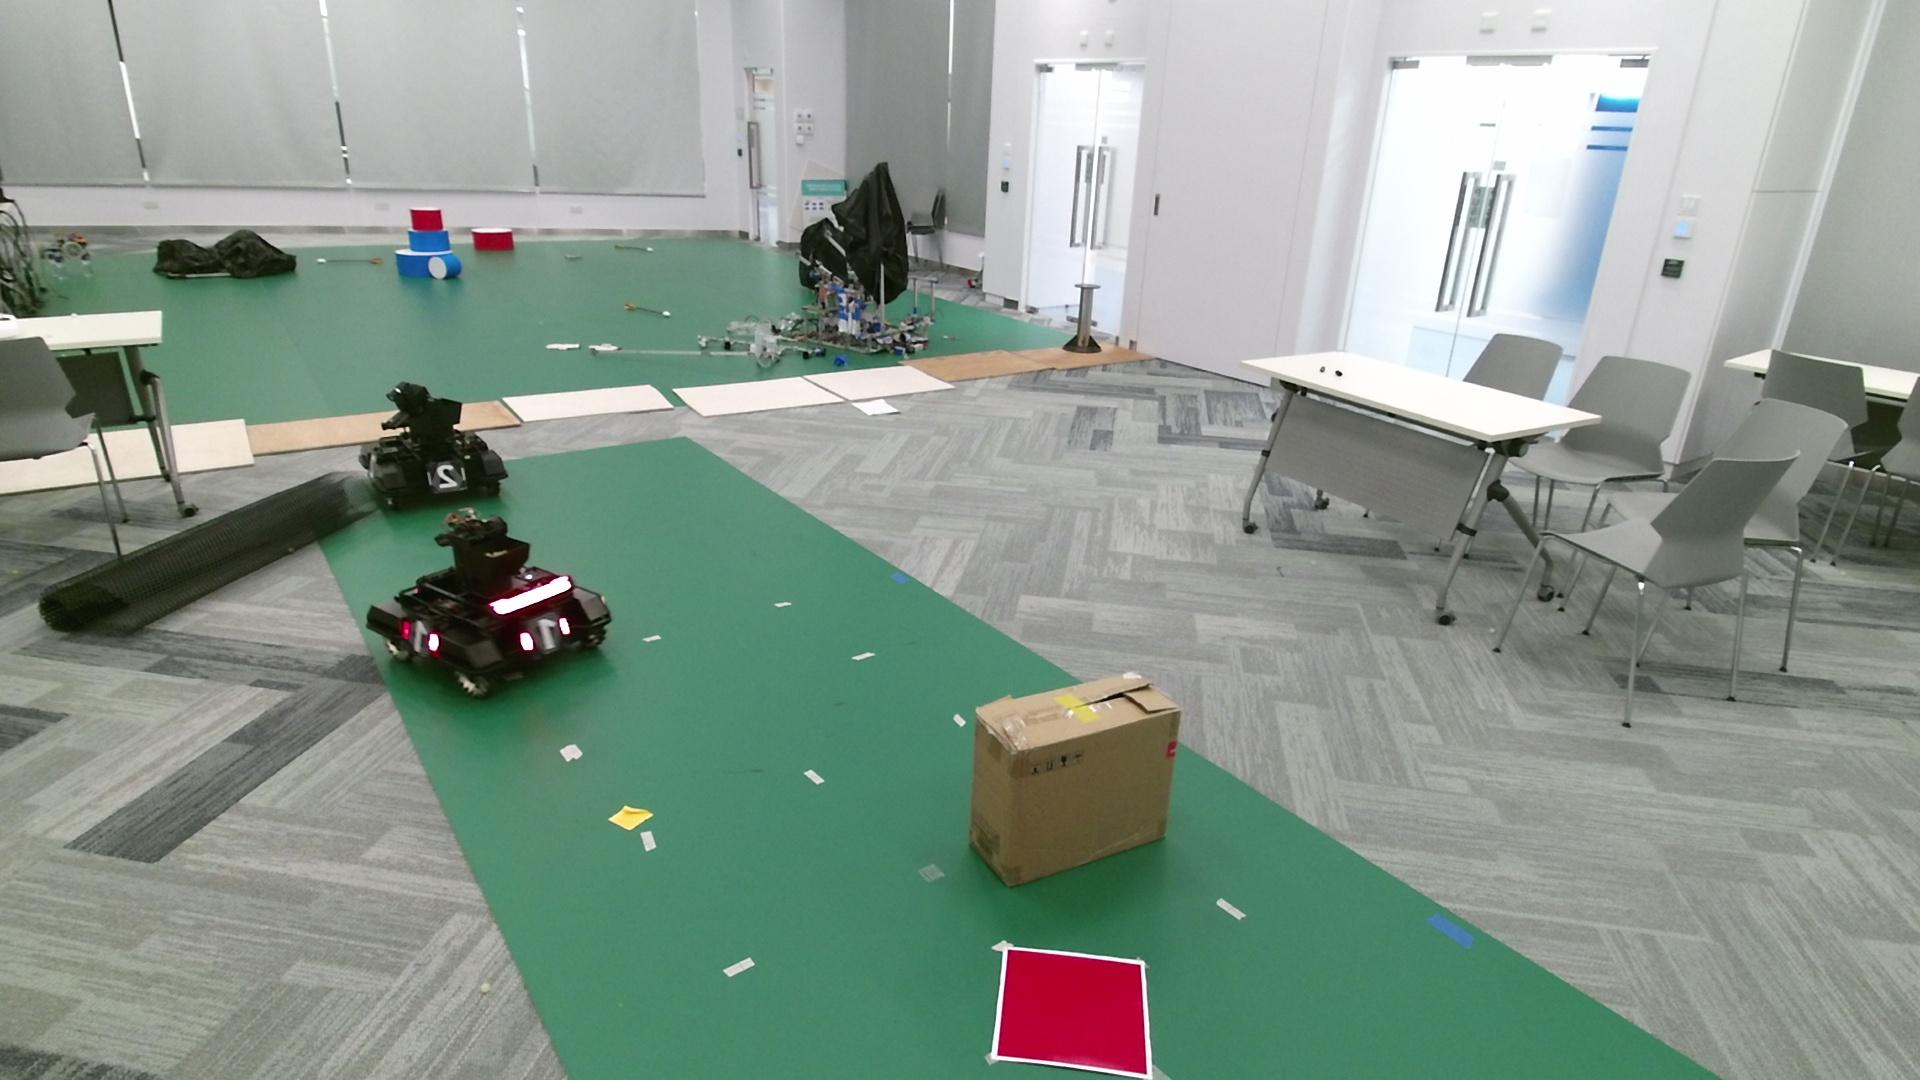robot: (365, 506, 612, 698), (357, 380, 509, 510)
